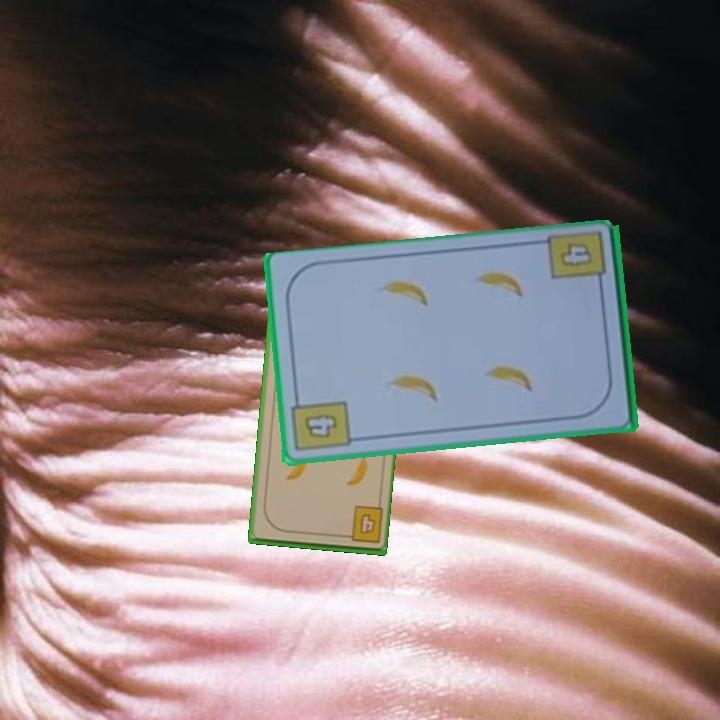4b: (288, 391, 354, 455), (338, 503, 385, 546), (556, 239, 595, 271)
